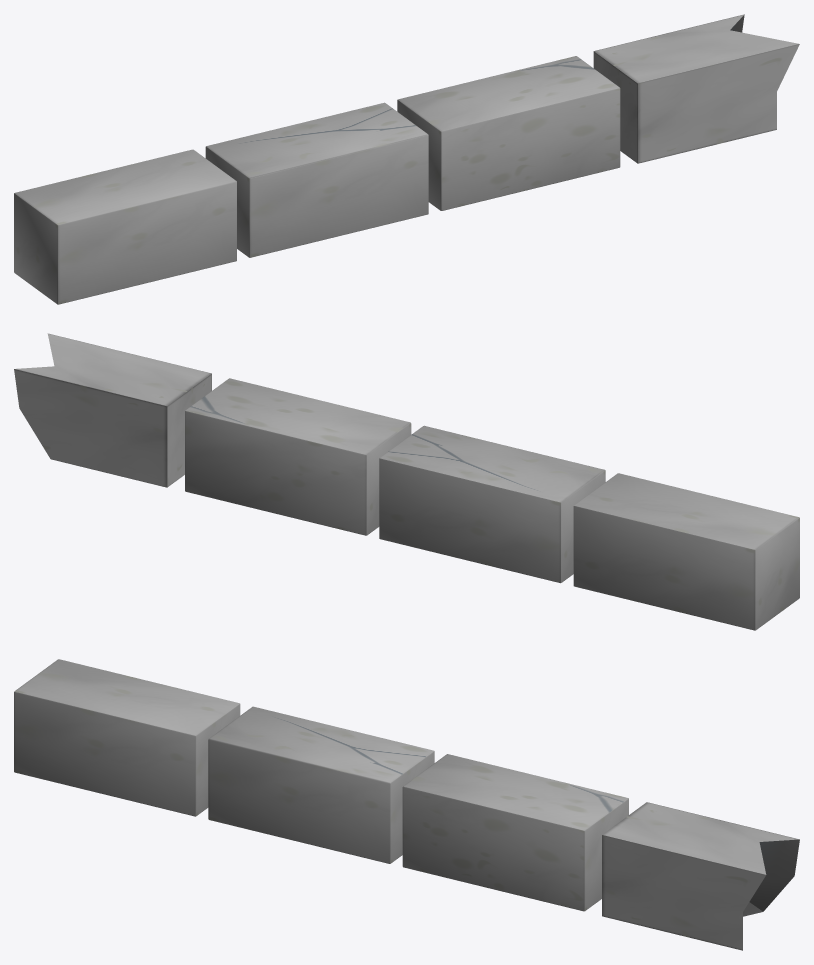
Rendered from Trim_BigStone.fbx.
The picture shows the model from 3 angles, top to bottom: view 1: azimuth 30°, elevation 25°; view 2: azimuth 150°, elevation 25°; view 3: azimuth 330°, elevation 25°; orthographic projection.
Visible parts, largest first — view 1: Trim_BigStone03, Trim_BigStone01, Trim_BigStone02, Trim_BigStone04; view 2: Trim_BigStone03, Trim_BigStone02, Trim_BigStone01, Trim_BigStone04; view 3: Trim_BigStone01, Trim_BigStone03, Trim_BigStone02, Trim_BigStone04.
Part boxes in pixels (x1,y1,x2,y2): Trim_BigStone03: (14,149,236,304); Trim_BigStone01: (397,56,620,210); Trim_BigStone02: (205,102,428,257); Trim_BigStone04: (593,14,799,163); Trim_BigStone03: (573,473,799,630); Trim_BigStone02: (379,425,605,583); Trim_BigStone01: (185,378,411,535); Trim_BigStone04: (14,333,211,487); Trim_BigStone01: (402,754,628,911); Trim_BigStone03: (14,659,240,816); Trim_BigStone02: (208,706,434,863); Trim_BigStone04: (602,802,799,950).
Bounding box in the file's own units: 1936 × 200 × 200.
